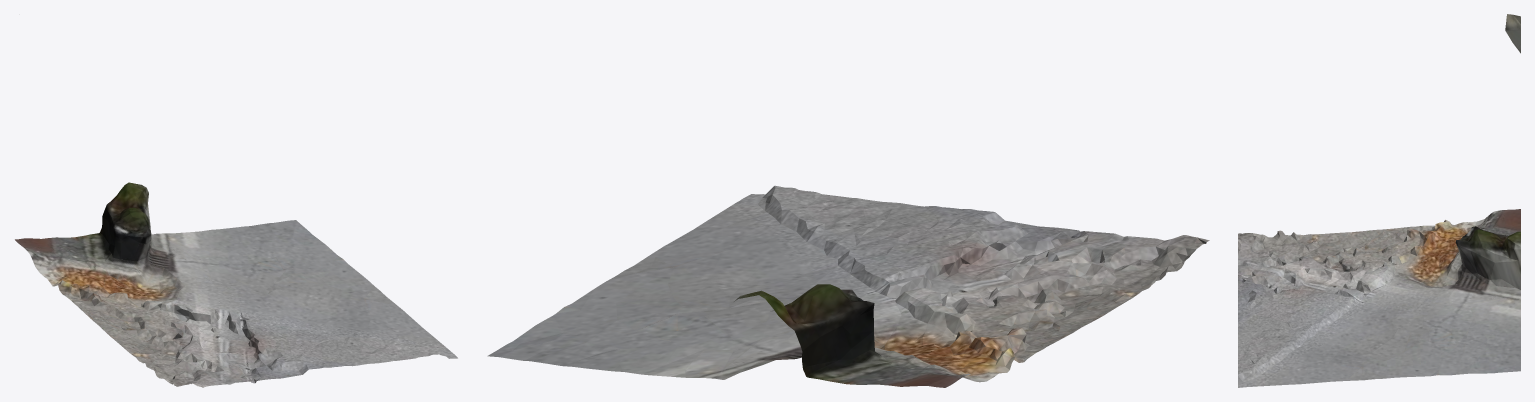
The picture shows the model from 3 angles, left to right: view 1: azimuth 30°, elevation 25°; view 2: azimuth 150°, elevation 25°; view 3: azimuth 270°, elevation 25°; orthographic projection. The views are drawn at different scales.
Size of the model in its own units: 3.35 by 3.32 by 3.35.
3 materials, 3 textured.
